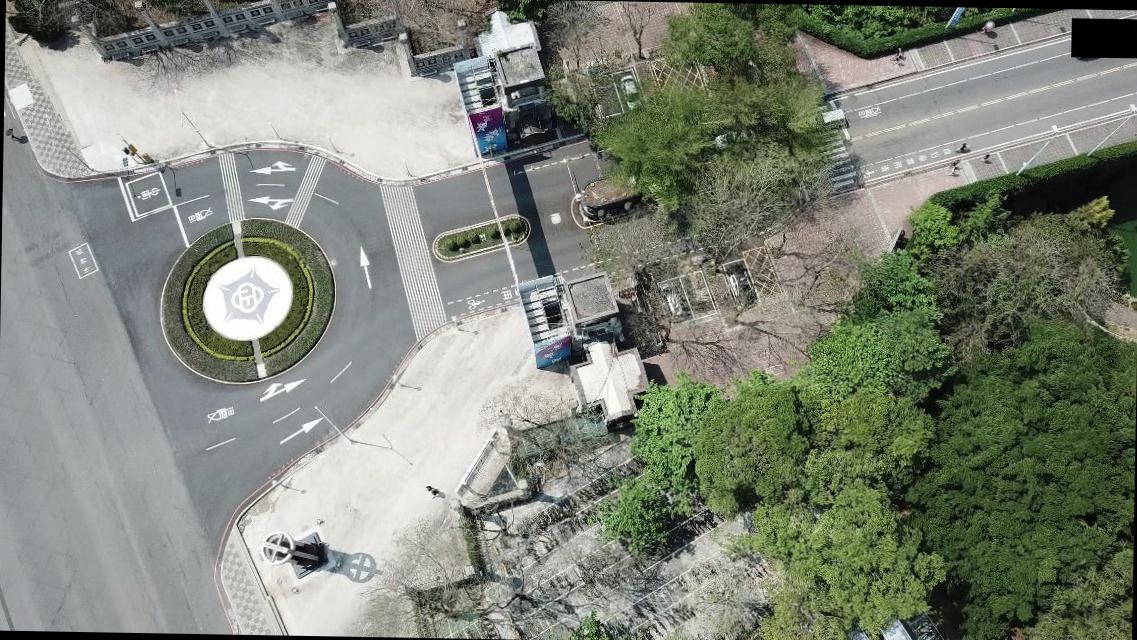vehicle: (725, 262, 756, 304), (658, 280, 687, 323), (712, 128, 753, 150), (620, 73, 644, 110), (820, 108, 846, 130)
